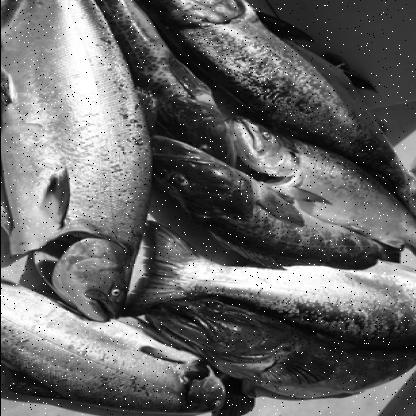fish: (1, 0, 149, 326), (136, 132, 416, 276), (221, 113, 415, 262)
